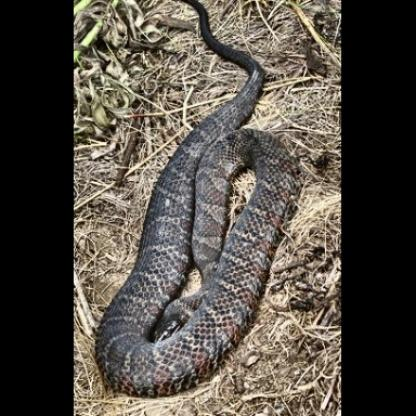Snake: (93, 15, 305, 405)
